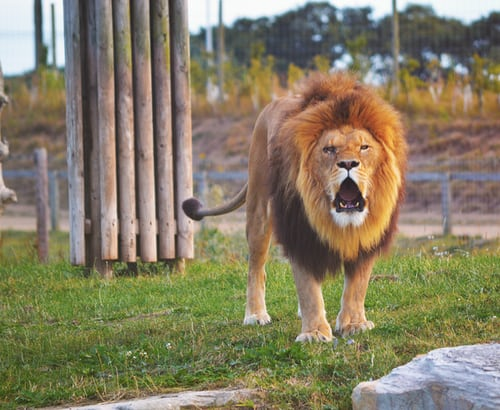lion: (286, 109, 399, 253)
